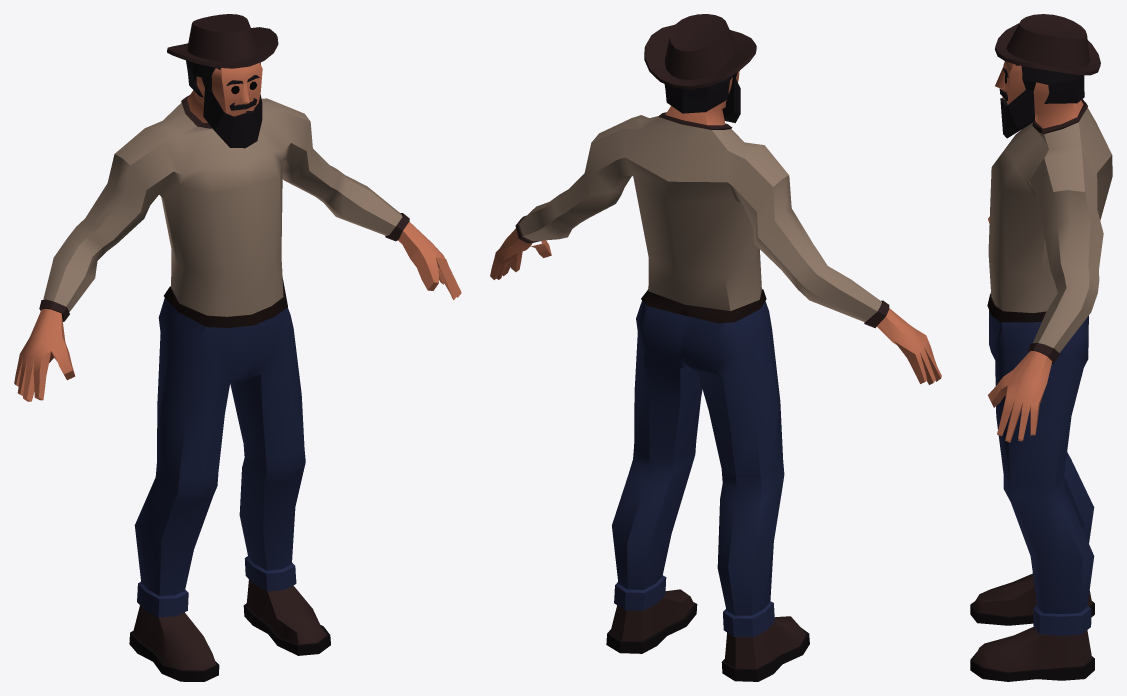
File: LowPolyCharacter2.glb
The picture shows the model from 3 angles, left to right: view 1: azimuth 30°, elevation 25°; view 2: azimuth 150°, elevation 25°; view 3: azimuth 270°, elevation 25°; orthographic projection.
Parts seen in each view (by area): view 1: LowPolyCharacter2; view 2: LowPolyCharacter2; view 3: LowPolyCharacter2.
Boxes of the visible parts, x1,y1,x2,y2 form: LowPolyCharacter2: (14,14,461,681); LowPolyCharacter2: (490,14,941,681); LowPolyCharacter2: (970,14,1112,681).
Bounding box in the file's own units: 1.39 × 1.88 × 0.3922.
